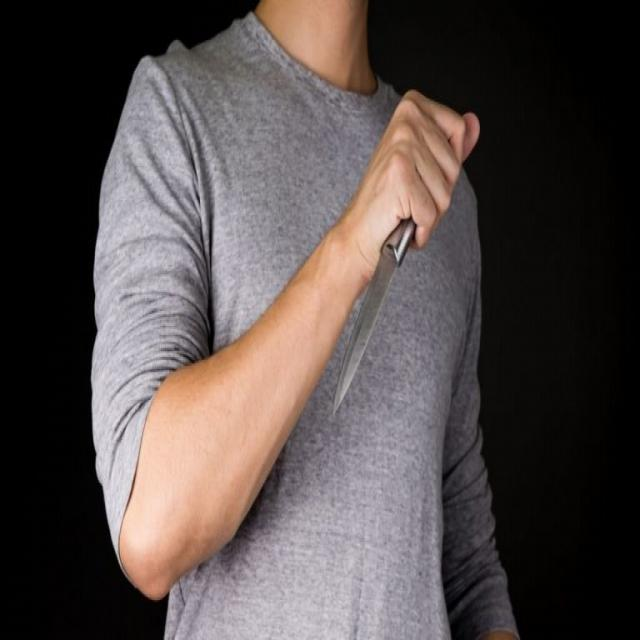knife: (330, 150, 466, 427)
